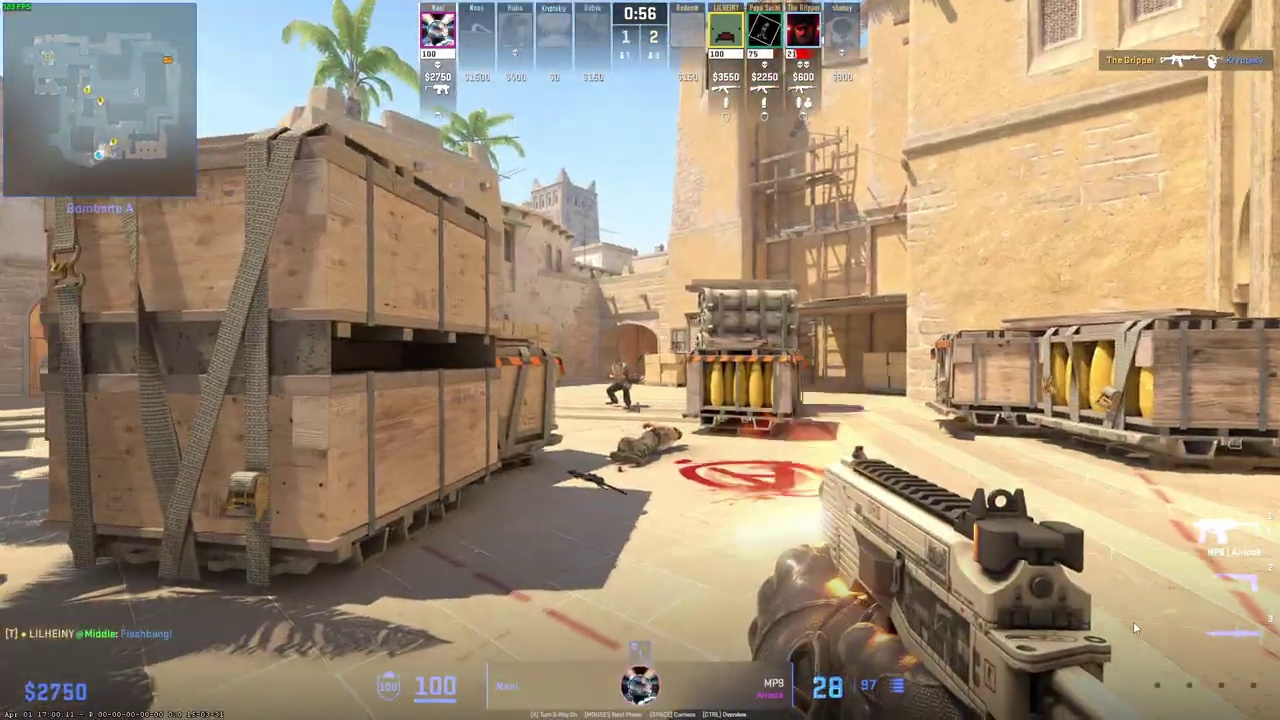Terrorist: (607, 358, 632, 408)
